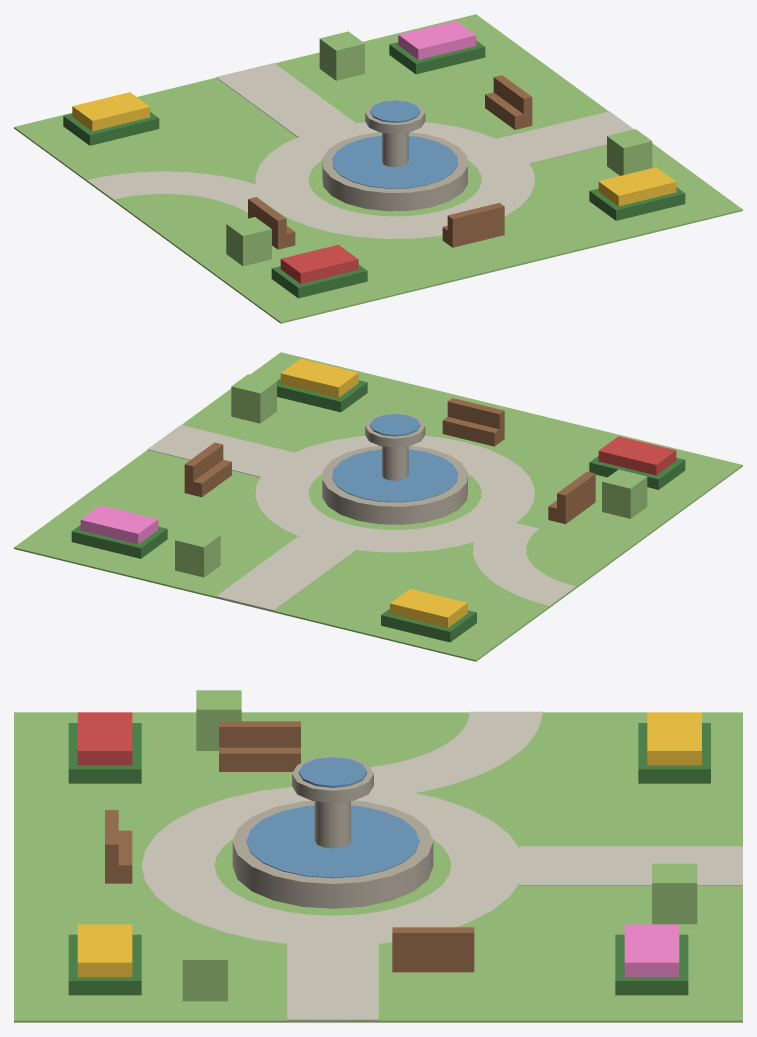
File: park_small.glb
The picture shows the model from 3 angles, top to bottom: view 1: azimuth 30°, elevation 25°; view 2: azimuth 150°, elevation 25°; view 3: azimuth 270°, elevation 25°; orthographic projection. The views are drawn at different scales.
Visible parts, largest first — view 1: lawn, path (×4), flower_bed (×4), flower_bed_edge (×4), tree_spot (×3), fountain_water, fountain_basin, bench_back (×3), bench_seat (×2), fountain_bowl_water, fountain_bowl, fountain_column; view 2: lawn, path (×4), flower_bed (×4), tree_spot (×3), flower_bed_edge (×4), fountain_water, fountain_basin, bench_back (×3), bench_seat (×3), fountain_bowl_water, fountain_bowl, fountain_column; view 3: lawn, path (×4), flower_bed (×4), flower_bed_edge (×4), fountain_water, fountain_basin, tree_spot (×3), bench_back (×3), bench_seat (×3), fountain_bowl_water, fountain_column, fountain_bowl.
Boxes of the visible parts, bbox=[...] form: lawn: bbox=[14, 14, 742, 323]; path (×4): bbox=[88, 63, 633, 238]; flower_bed (×4): bbox=[72, 21, 676, 283]; flower_bed_edge (×4): bbox=[63, 40, 685, 298]; tree_spot (×3): bbox=[226, 31, 652, 266]; fountain_water: bbox=[332, 135, 458, 188]; fountain_basin: bbox=[322, 132, 467, 211]; bench_back (×3): bbox=[248, 75, 532, 235]; bench_seat (×2): bbox=[442, 92, 532, 247]; fountain_bowl_water: bbox=[370, 100, 420, 122]; fountain_bowl: bbox=[365, 99, 425, 133]; fountain_column: bbox=[382, 132, 408, 167]; lawn: bbox=[14, 352, 742, 661]; path (×4): bbox=[147, 425, 575, 612]; flower_bed (×4): bbox=[80, 359, 676, 627]; tree_spot (×3): bbox=[175, 374, 647, 577]; flower_bed_edge (×4): bbox=[71, 378, 685, 642]; fountain_water: bbox=[332, 449, 458, 502]; fountain_basin: bbox=[322, 445, 467, 524]; bench_back (×3): bbox=[184, 398, 595, 510]; bench_seat (×3): bbox=[184, 416, 595, 524]; fountain_bowl_water: bbox=[370, 414, 420, 436]; fountain_bowl: bbox=[365, 413, 425, 447]; fountain_column: bbox=[382, 446, 408, 480]; lawn: bbox=[14, 712, 742, 1022]; path (×4): bbox=[141, 711, 742, 1022]; flower_bed (×4): bbox=[77, 712, 701, 977]; flower_bed_edge (×4): bbox=[68, 723, 710, 995]; fountain_water: bbox=[246, 805, 419, 878]; fountain_basin: bbox=[232, 800, 433, 908]; tree_spot (×3): bbox=[182, 690, 697, 1001]; bench_back (×3): bbox=[105, 721, 474, 953]; bench_seat (×3): bbox=[105, 747, 474, 972]; fountain_bowl_water: bbox=[298, 757, 366, 787]; fountain_column: bbox=[314, 801, 350, 848]; fountain_bowl: bbox=[292, 756, 373, 803].
Bounding box in the file's own units: 16 × 2.35 × 16.
